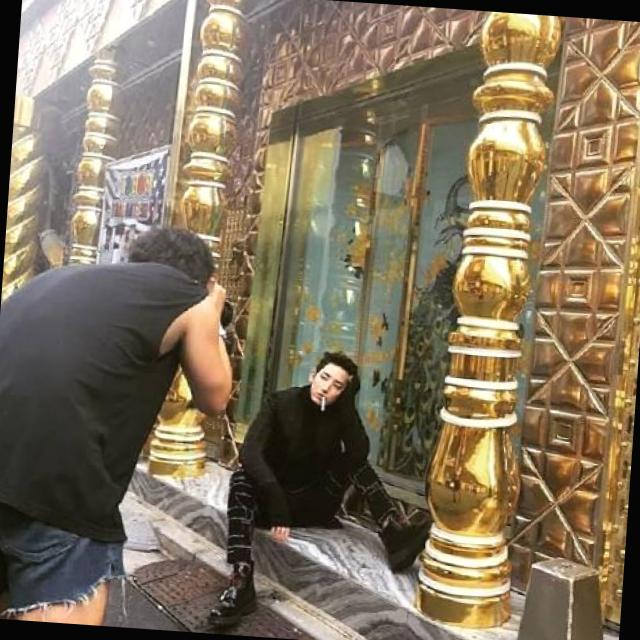smoke: (318, 395, 330, 421)
